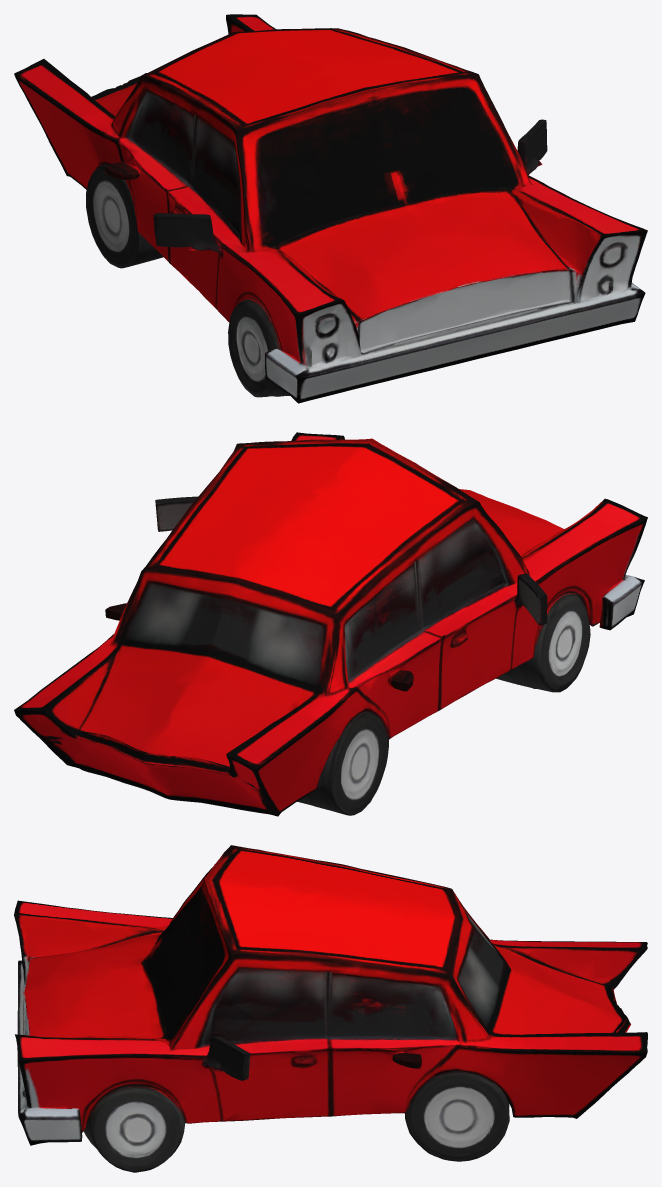
The model's file is cartoon-car.glb.
3 views of the same model, one above another, from view 1: azimuth 30°, elevation 25°; view 2: azimuth 150°, elevation 25°; view 3: azimuth 270°, elevation 25° (orthographic). The views are drawn at different scales.
Parts seen in each view (by area): view 1: world_0; view 2: world_0; view 3: world_0.
Boxes of the visible parts, box(x1,y1,x2,y2) form: world_0: box(14, 14, 647, 403); world_0: box(14, 432, 647, 816); world_0: box(14, 845, 647, 1172).
Size of the model in its own units: 33.28 by 19.75 by 49.97.
Materials: 1 (1 with a texture image).
